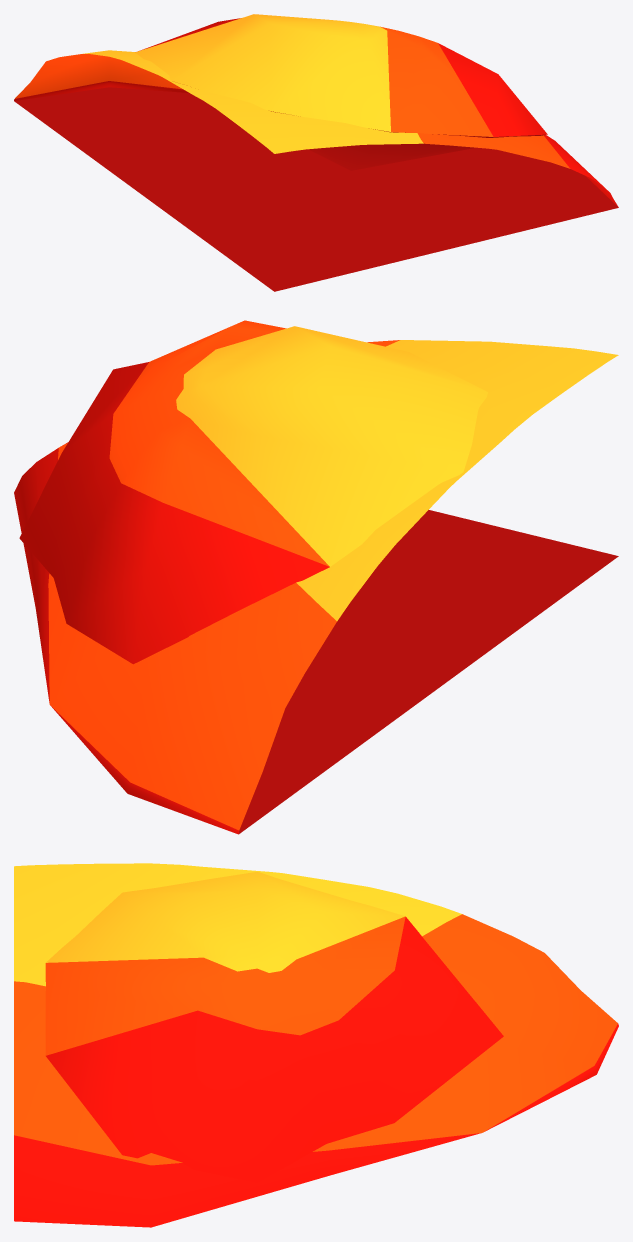
The model's file is shot_zflame_193.glb.
The picture shows the model from 3 angles, top to bottom: view 1: azimuth 30°, elevation 25°; view 2: azimuth 150°, elevation 25°; view 3: azimuth 270°, elevation 25°; orthographic projection. The views are drawn at different scales.
Parts seen in each view (by area): view 1: zflame_2_bed_b193, zflame_2_billow4_b193; view 2: zflame_2_bed_b193, zflame_2_billow4_b193; view 3: zflame_2_billow4_b193, zflame_2_bed_b193.
Part boxes in pixels (box(x1,y1,x2,y2)): zflame_2_bed_b193: box(14, 50, 618, 291); zflame_2_billow4_b193: box(135, 14, 547, 170); zflame_2_bed_b193: box(14, 340, 618, 834); zflame_2_billow4_b193: box(19, 320, 487, 664); zflame_2_billow4_b193: box(45, 871, 503, 1182); zflame_2_bed_b193: box(14, 863, 618, 1227).
Bounding box in the file's own units: 6.85 × 3.17 × 8.7.
